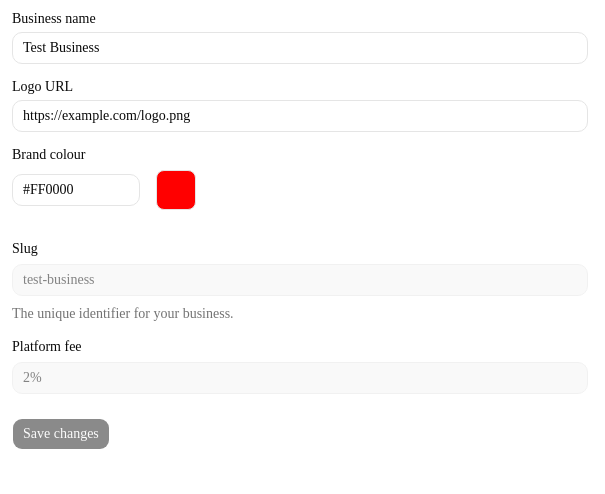
Test case: SettingsForm › validates hex colors
Replace the text in the field labelled "Brand colour" with "invalid-hex" at (76, 190), box [12, 174, 140, 206]
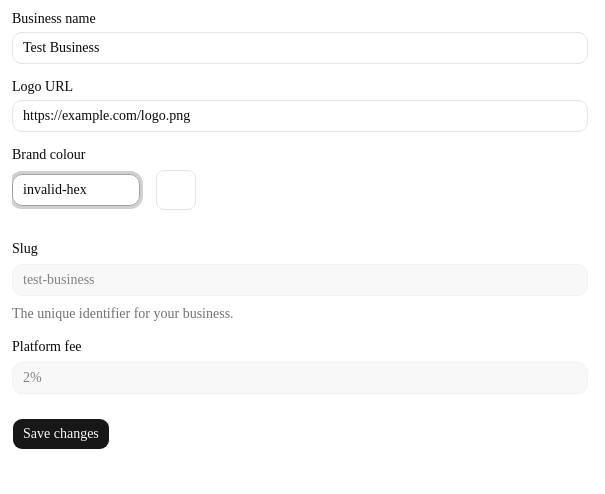
// Trigger validation
Click the button "Save changes" at (61, 434), box [12, 418, 110, 450]
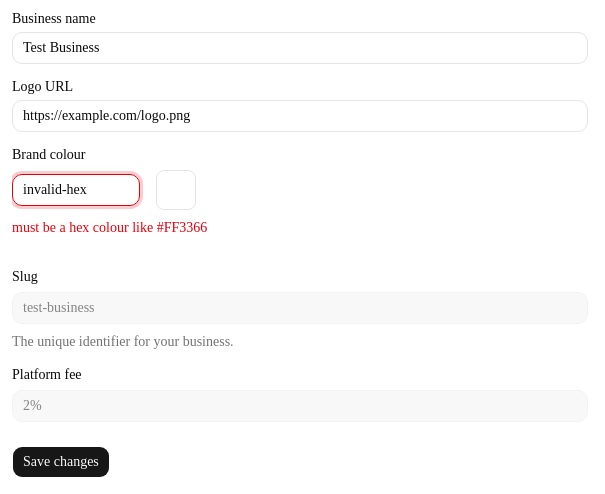
Now the text "must be a hex colour like #FF3366" is shown, box [12, 220, 207, 235]
